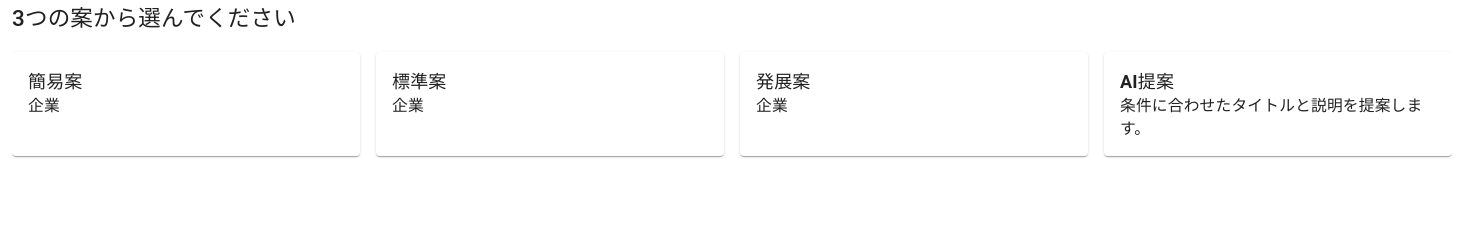
TemplateOverviewPage › shows a quota message when AI generation is rejected with resource-exhausted
Click the button with aria-label "AI提案を選ぶ" at {"x": 1278, "y": 104}, box [1104, 52, 1452, 156]
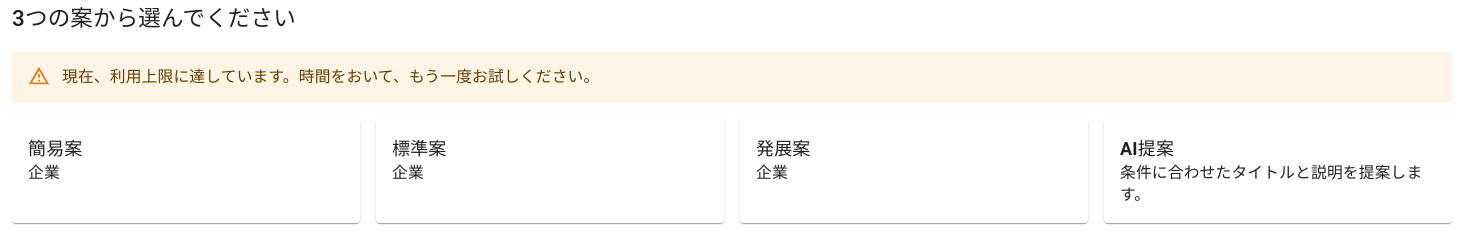
Result: the text "現在、利用上限に達しています。時間をおいて、もう一度お試しください。" is shown at [62, 67, 600, 86]
